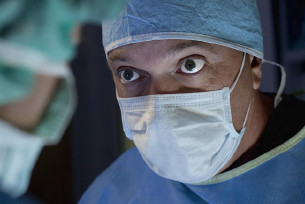face_mask: (111, 16, 239, 182)
